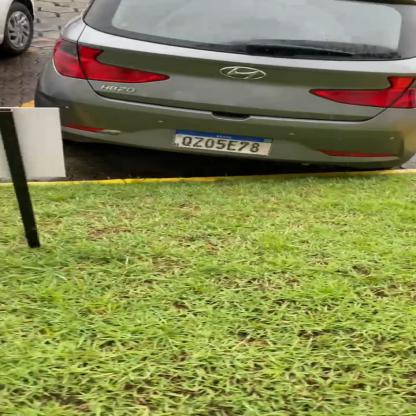Plate: (171, 128, 277, 160)
